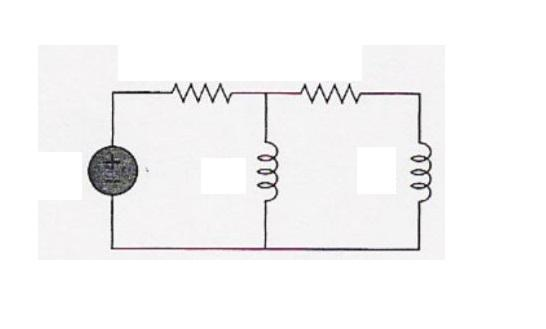resistor: (151, 66, 237, 120), (284, 66, 378, 114)
